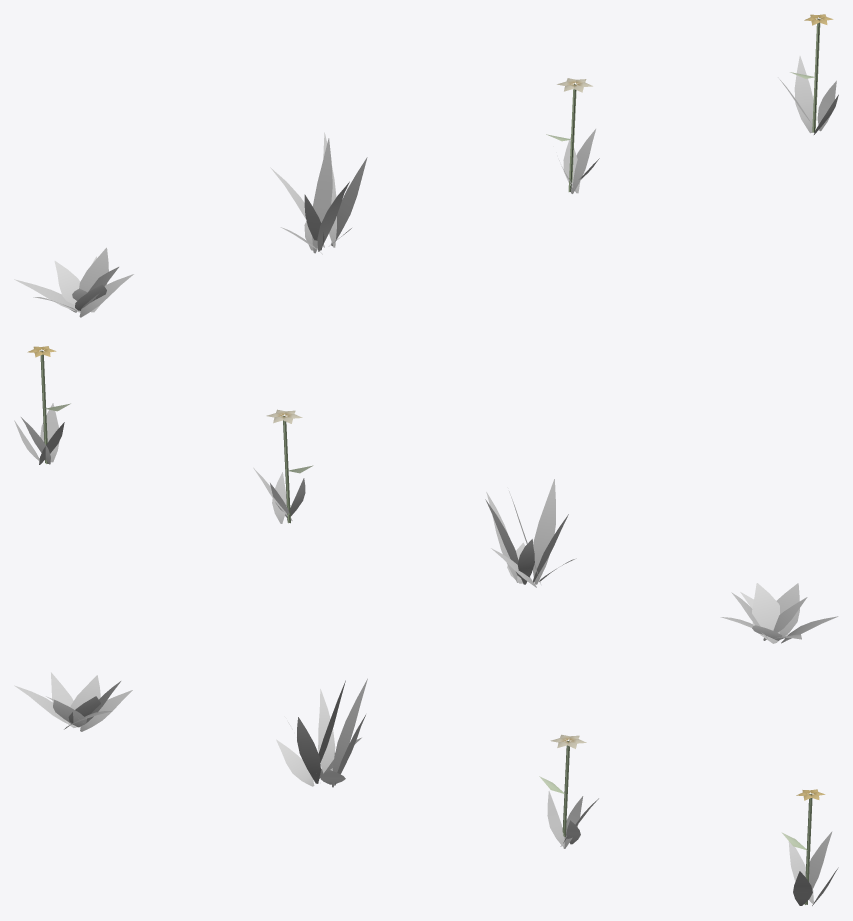
The model's file is arrival-groundcover-v02.glb.
3 renders of one model, top to bottom at view 1: azimuth 30°, elevation 25°; view 2: azimuth 150°, elevation 25°; view 3: azimuth 330°, elevation 25°, orthographic.
Parts seen in each view (by area): view 1: MeadowTuft_1, MeadowTuft_0, MeadowTuft_3, MeadowTuft_2; view 2: MeadowTuft_1, MeadowTuft_0, MeadowTuft_3, MeadowTuft_2; view 3: MeadowTuft_1, MeadowTuft_0, MeadowTuft_3, MeadowTuft_2.
Boxes of the visible parts, x1,y1,x2,y2 form: MeadowTuft_1: (270, 132, 367, 254); MeadowTuft_0: (14, 247, 133, 317); MeadowTuft_3: (778, 14, 838, 134); MeadowTuft_2: (546, 78, 599, 193); MeadowTuft_1: (485, 479, 576, 587); MeadowTuft_0: (720, 583, 838, 643); MeadowTuft_3: (14, 346, 70, 464); MeadowTuft_2: (253, 409, 313, 523); MeadowTuft_1: (276, 678, 367, 787); MeadowTuft_0: (14, 672, 132, 731); MeadowTuft_3: (781, 789, 838, 905); MeadowTuft_2: (539, 734, 598, 848).
Size of the model in its own units: 2.85 by 0.38 by 0.3085.
